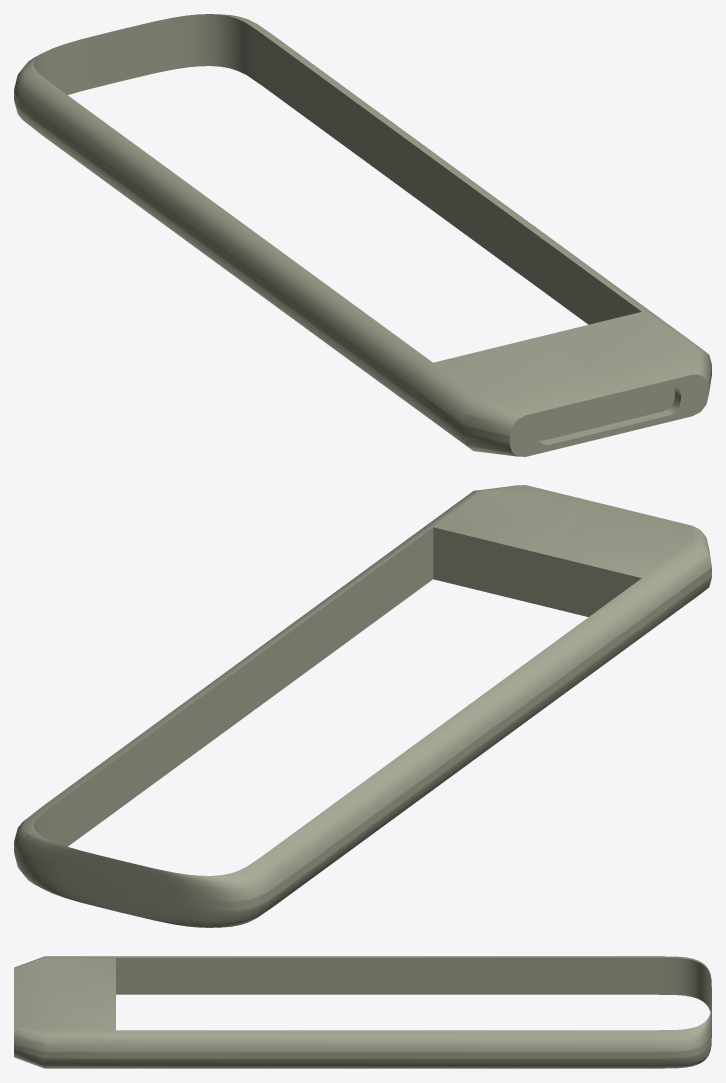
Rendered from freighter_kelvane.glb.
3 views of the same model, one above another, from view 1: azimuth 30°, elevation 25°; view 2: azimuth 150°, elevation 25°; view 3: azimuth 270°, elevation 25° (orthographic). The views are drawn at different scales.
Visible parts, largest first — view 1: hull; view 2: hull; view 3: hull.
Part boxes in pixels (x1,y1,x2,y2): hull: (14,14,711,456); hull: (14,485,711,927); hull: (14,956,711,1068).
Size of the model in its own units: 80 by 16 by 274.
